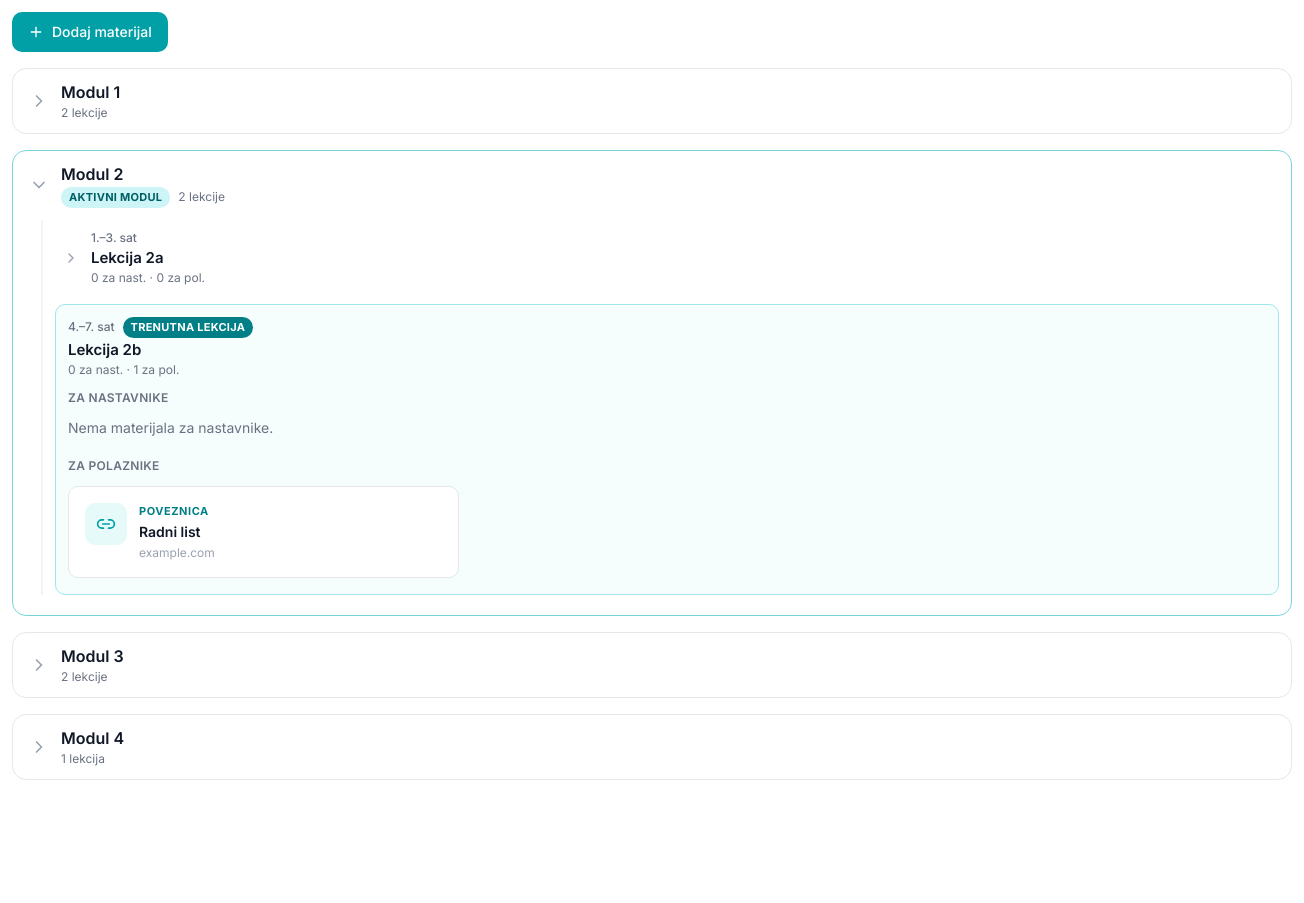
GroupLessons › keeps the current lesson always open and apart; next is a closed lesson with a badge
The width and height of the screenshot is (1304, 903).
Check: the heading "4.–7. sat Trenutna lekcija Lekcija 2b 0 za nast. · 1 za pol." is shown, box 68,317 -> 253,377
Check: the heading "4.–7. sat Trenutna lekcija Lekcija 2b 0 za nast. · 1 za pol." does not show "23.11.", box 68,317 -> 253,377
Click the button "Modul 3 2 lekcije": (92, 656) 13,633 -> 1291,697
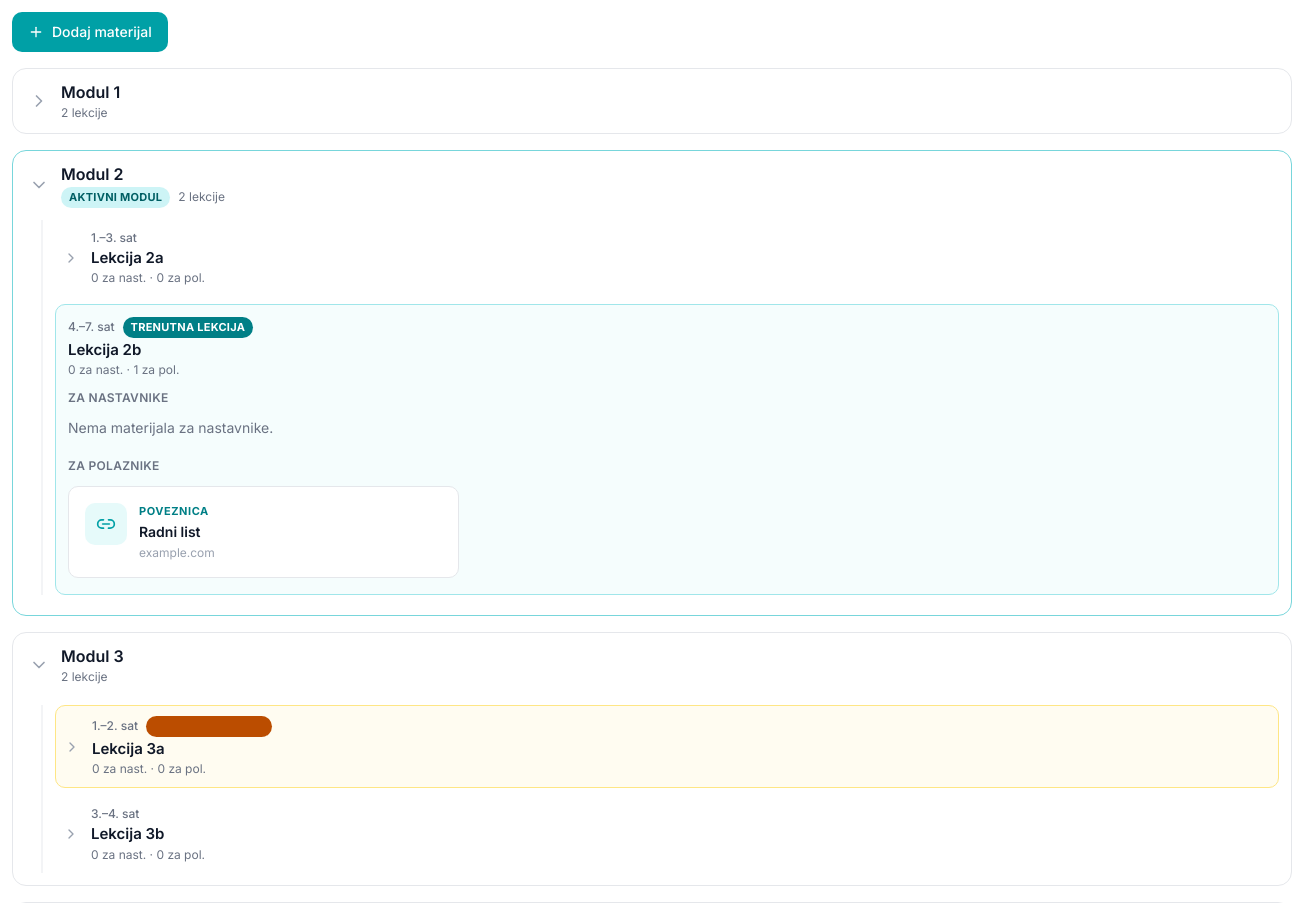
Check: the text "Trenutna lekcija" is shown once, box 122,317 -> 253,338
Check: the button "1.–2. sat Sljedeća lekcija Lekcija 3a 0 za nast. · 0 za pol." is shown, box 56,706 -> 1278,787
